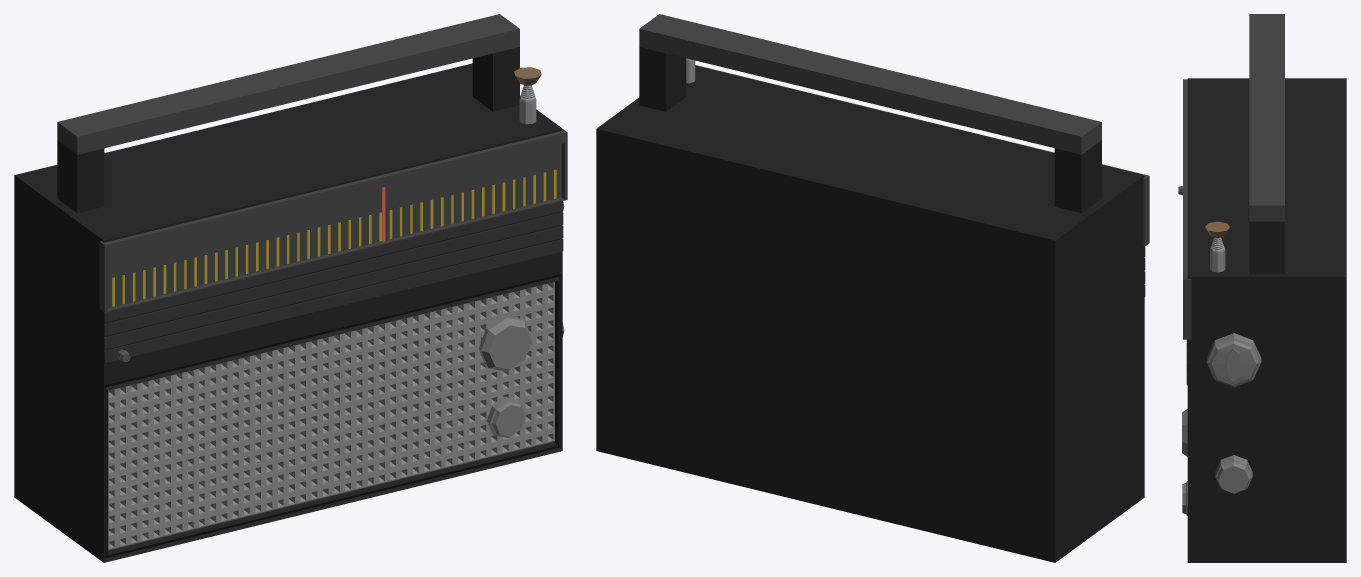
The model's file is Radio.glb.
The picture shows the model from 3 angles, left to right: view 1: azimuth 30°, elevation 25°; view 2: azimuth 150°, elevation 25°; view 3: azimuth 270°, elevation 25°; orthographic projection. The views are drawn at different scales.
Parts seen in each view (by area): view 1: Cube; view 2: Cube; view 3: Cube.
Part boxes in pixels (left/top/right/bottom): Cube: left=14, top=14, right=567, bottom=562; Cube: left=596, top=14, right=1149, bottom=562; Cube: left=1178, top=14, right=1346, bottom=562.
Bounding box in the file's own units: 0.4159 × 0.3302 × 0.1422.
Materials: 1 (1 with a texture image).
